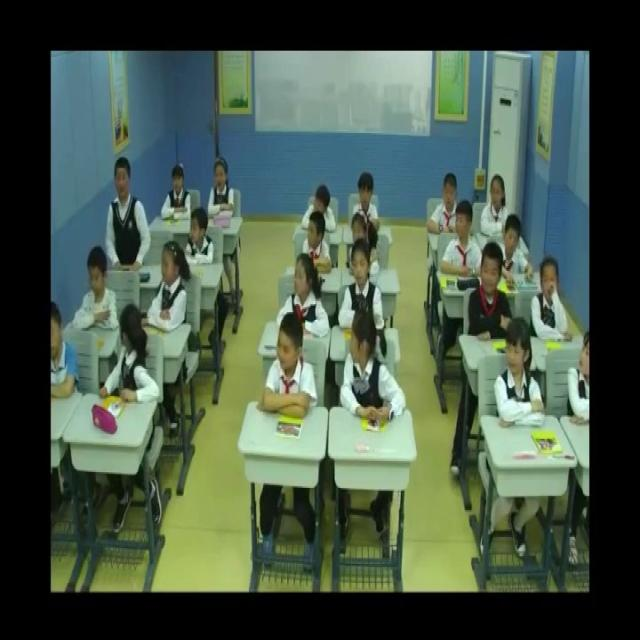distracted: (344, 310, 408, 422), (260, 309, 318, 416), (101, 304, 160, 402), (146, 240, 190, 330), (282, 256, 331, 336), (441, 198, 487, 278), (566, 331, 590, 421), (300, 212, 332, 276), (301, 185, 337, 235), (185, 208, 214, 266)
focused: (492, 318, 547, 428), (107, 153, 153, 271), (470, 242, 514, 342), (73, 250, 118, 334), (341, 243, 385, 327), (531, 254, 569, 344), (50, 304, 79, 402), (496, 215, 534, 287), (349, 211, 385, 282), (429, 171, 468, 235), (353, 168, 383, 236), (479, 174, 510, 239), (160, 159, 192, 217), (206, 156, 234, 210)
